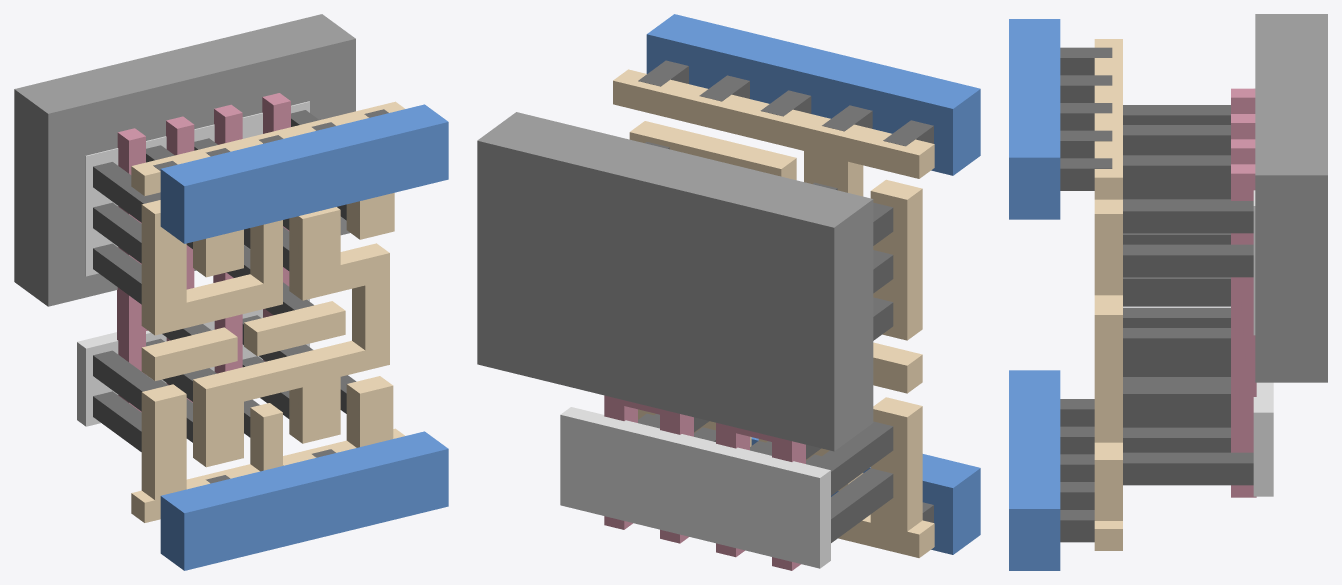
File: sky130_fd_sc_hd__nor2_2.gds.gltf
3 renders of one model, left to right at view 1: azimuth 30°, elevation 25°; view 2: azimuth 150°, elevation 25°; view 3: azimuth 270°, elevation 25°, orthographic. The views are drawn at different scales.
Parts seen in each view (by area): view 1: sky130_fd_sc_hd__nor2_2_li1, sky130_fd_sc_hd__nor2_2_met1, sky130_fd_sc_hd__nor2_2_nwell, sky130_fd_sc_hd__nor2_2_licon, sky130_fd_sc_hd__nor2_2_poly, sky130_fd_sc_hd__nor2_2_diff, sky130_fd_sc_hd__nor2_2_mcon; view 2: sky130_fd_sc_hd__nor2_2_nwell, sky130_fd_sc_hd__nor2_2_li1, sky130_fd_sc_hd__nor2_2_diff, sky130_fd_sc_hd__nor2_2_met1, sky130_fd_sc_hd__nor2_2_licon, sky130_fd_sc_hd__nor2_2_mcon, sky130_fd_sc_hd__nor2_2_poly; view 3: sky130_fd_sc_hd__nor2_2_licon, sky130_fd_sc_hd__nor2_2_nwell, sky130_fd_sc_hd__nor2_2_met1, sky130_fd_sc_hd__nor2_2_li1, sky130_fd_sc_hd__nor2_2_mcon, sky130_fd_sc_hd__nor2_2_poly, sky130_fd_sc_hd__nor2_2_diff.
Boxes of the visible parts, bbox=[...] form: sky130_fd_sc_hd__nor2_2_li1: bbox=[131, 101, 404, 522]; sky130_fd_sc_hd__nor2_2_met1: bbox=[160, 104, 448, 570]; sky130_fd_sc_hd__nor2_2_nwell: bbox=[14, 14, 355, 306]; sky130_fd_sc_hd__nor2_2_licon: bbox=[93, 110, 356, 451]; sky130_fd_sc_hd__nor2_2_poly: bbox=[117, 93, 290, 412]; sky130_fd_sc_hd__nor2_2_diff: bbox=[77, 101, 309, 426]; sky130_fd_sc_hd__nor2_2_mcon: bbox=[153, 109, 388, 483]; sky130_fd_sc_hd__nor2_2_nwell: bbox=[477, 112, 873, 451]; sky130_fd_sc_hd__nor2_2_li1: bbox=[613, 69, 934, 557]; sky130_fd_sc_hd__nor2_2_diff: bbox=[560, 407, 830, 568]; sky130_fd_sc_hd__nor2_2_met1: bbox=[646, 14, 980, 554]; sky130_fd_sc_hd__nor2_2_licon: bbox=[638, 142, 893, 542]; sky130_fd_sc_hd__nor2_2_mcon: bbox=[638, 60, 933, 522]; sky130_fd_sc_hd__nor2_2_poly: bbox=[604, 395, 805, 570]; sky130_fd_sc_hd__nor2_2_licon: bbox=[1123, 105, 1253, 485]; sky130_fd_sc_hd__nor2_2_nwell: bbox=[1255, 14, 1327, 382]; sky130_fd_sc_hd__nor2_2_met1: bbox=[1009, 19, 1060, 570]; sky130_fd_sc_hd__nor2_2_li1: bbox=[1094, 39, 1122, 550]; sky130_fd_sc_hd__nor2_2_mcon: bbox=[1060, 47, 1112, 542]; sky130_fd_sc_hd__nor2_2_poly: bbox=[1231, 88, 1256, 497]; sky130_fd_sc_hd__nor2_2_diff: bbox=[1253, 88, 1273, 496].
Size of the model in its own units: 2.68 by 3.2 by 2.24.
